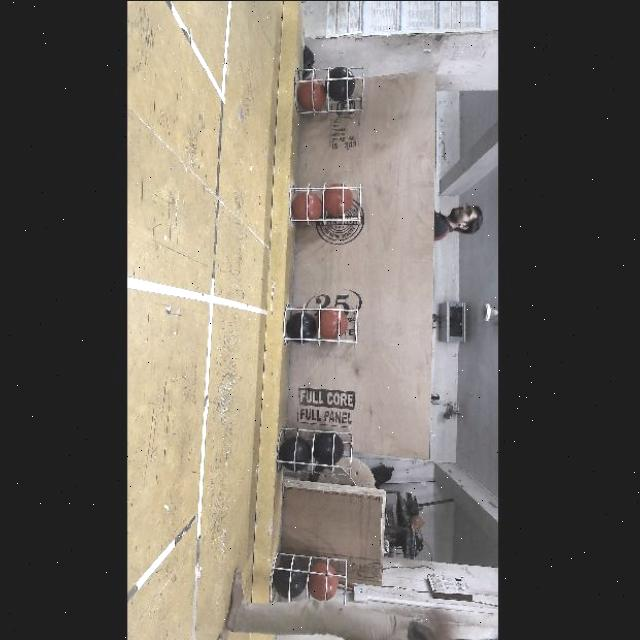P: (274, 563, 308, 597), (279, 436, 311, 469), (326, 66, 354, 102), (313, 432, 343, 464), (286, 313, 316, 341)
R: (307, 562, 337, 598), (316, 306, 348, 338), (297, 77, 323, 109), (325, 184, 353, 212), (294, 191, 320, 221)
S: (294, 58, 362, 112), (286, 428, 356, 478), (278, 558, 354, 598), (286, 186, 362, 224), (284, 305, 364, 341)
